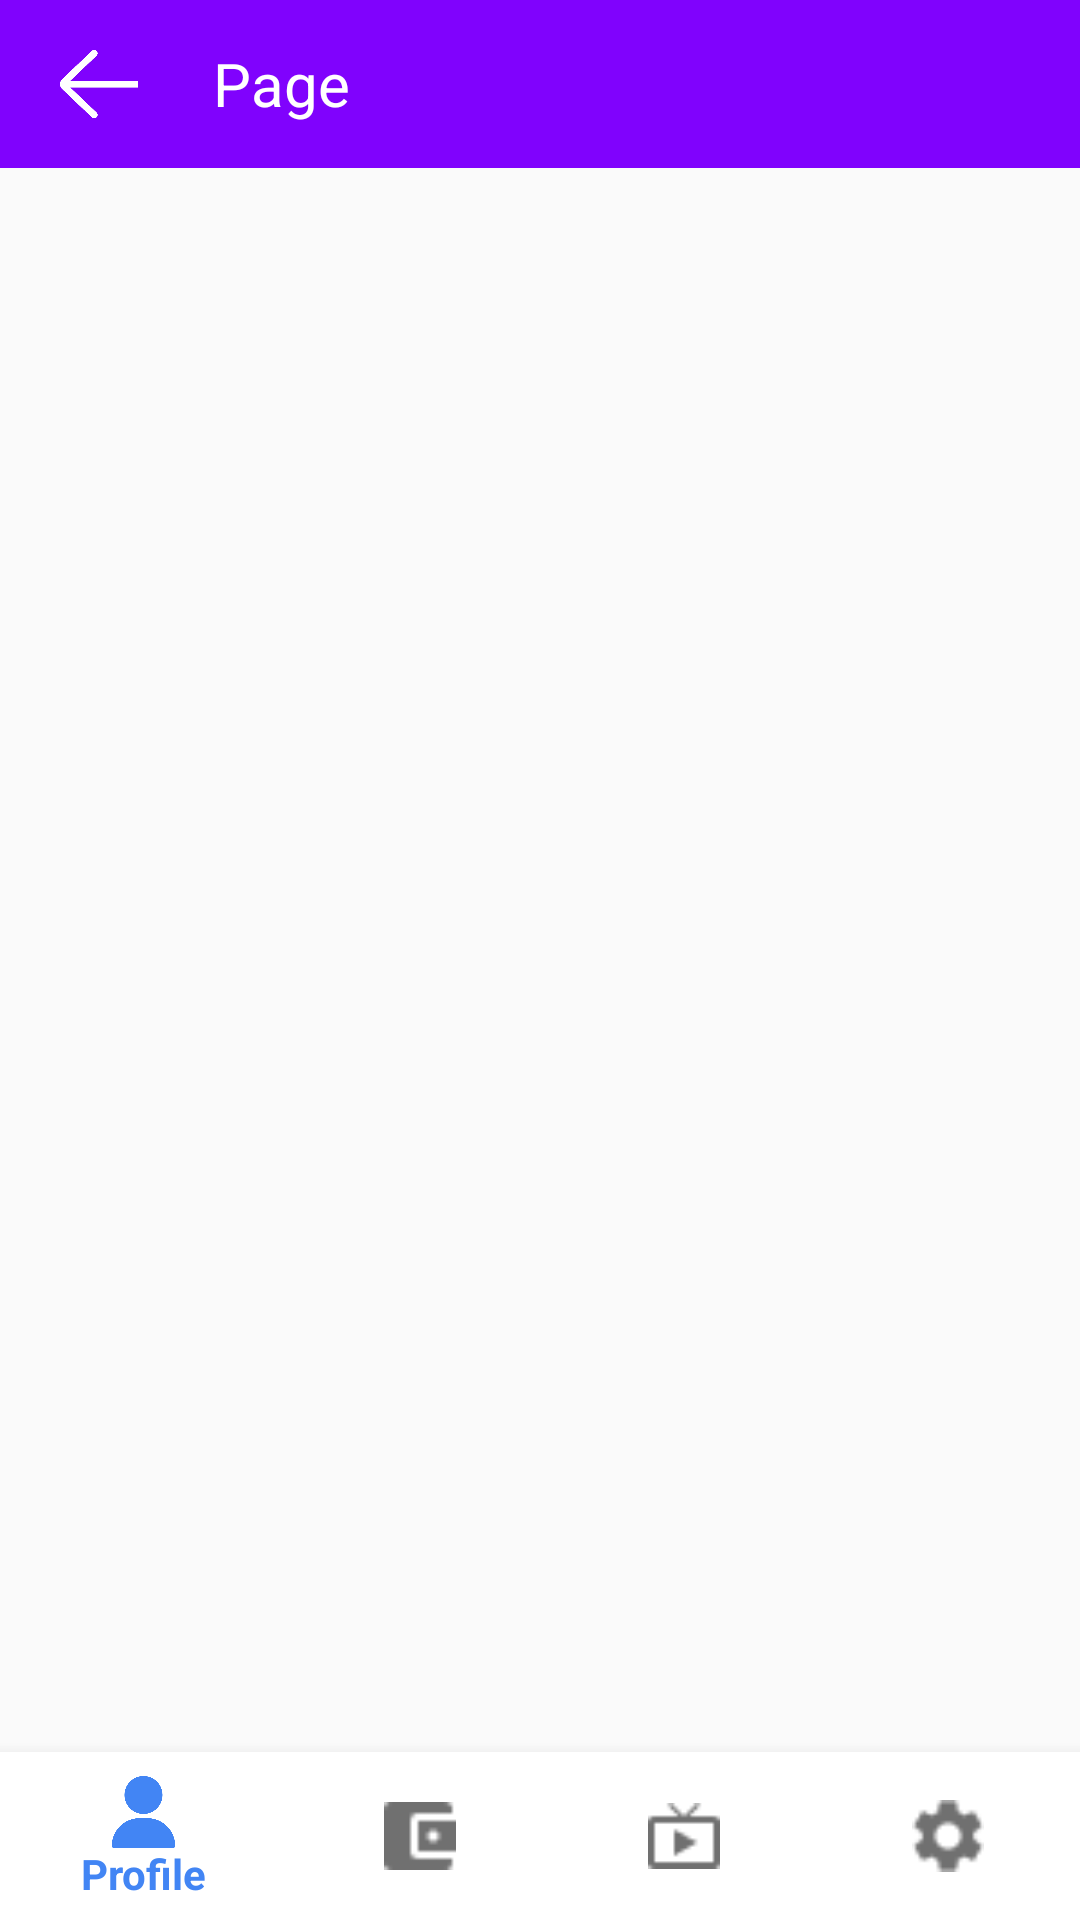

Where to tap for icons on this 1080px×1920px app screen, as (x=x, y=y):
back: (x=99, y=84)
